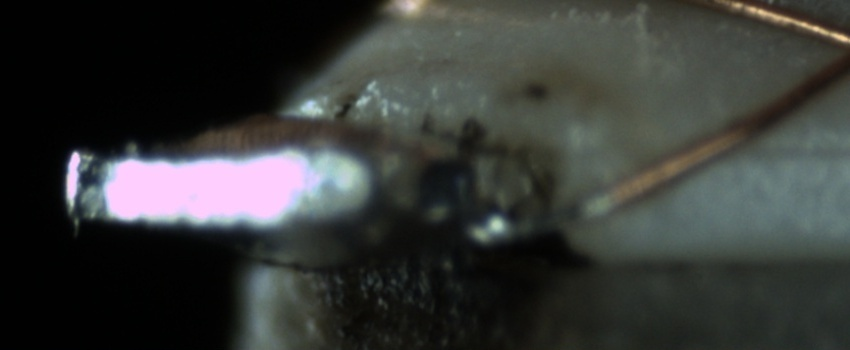DL: (728, 118, 849, 186)
TS: (477, 189, 614, 248)
